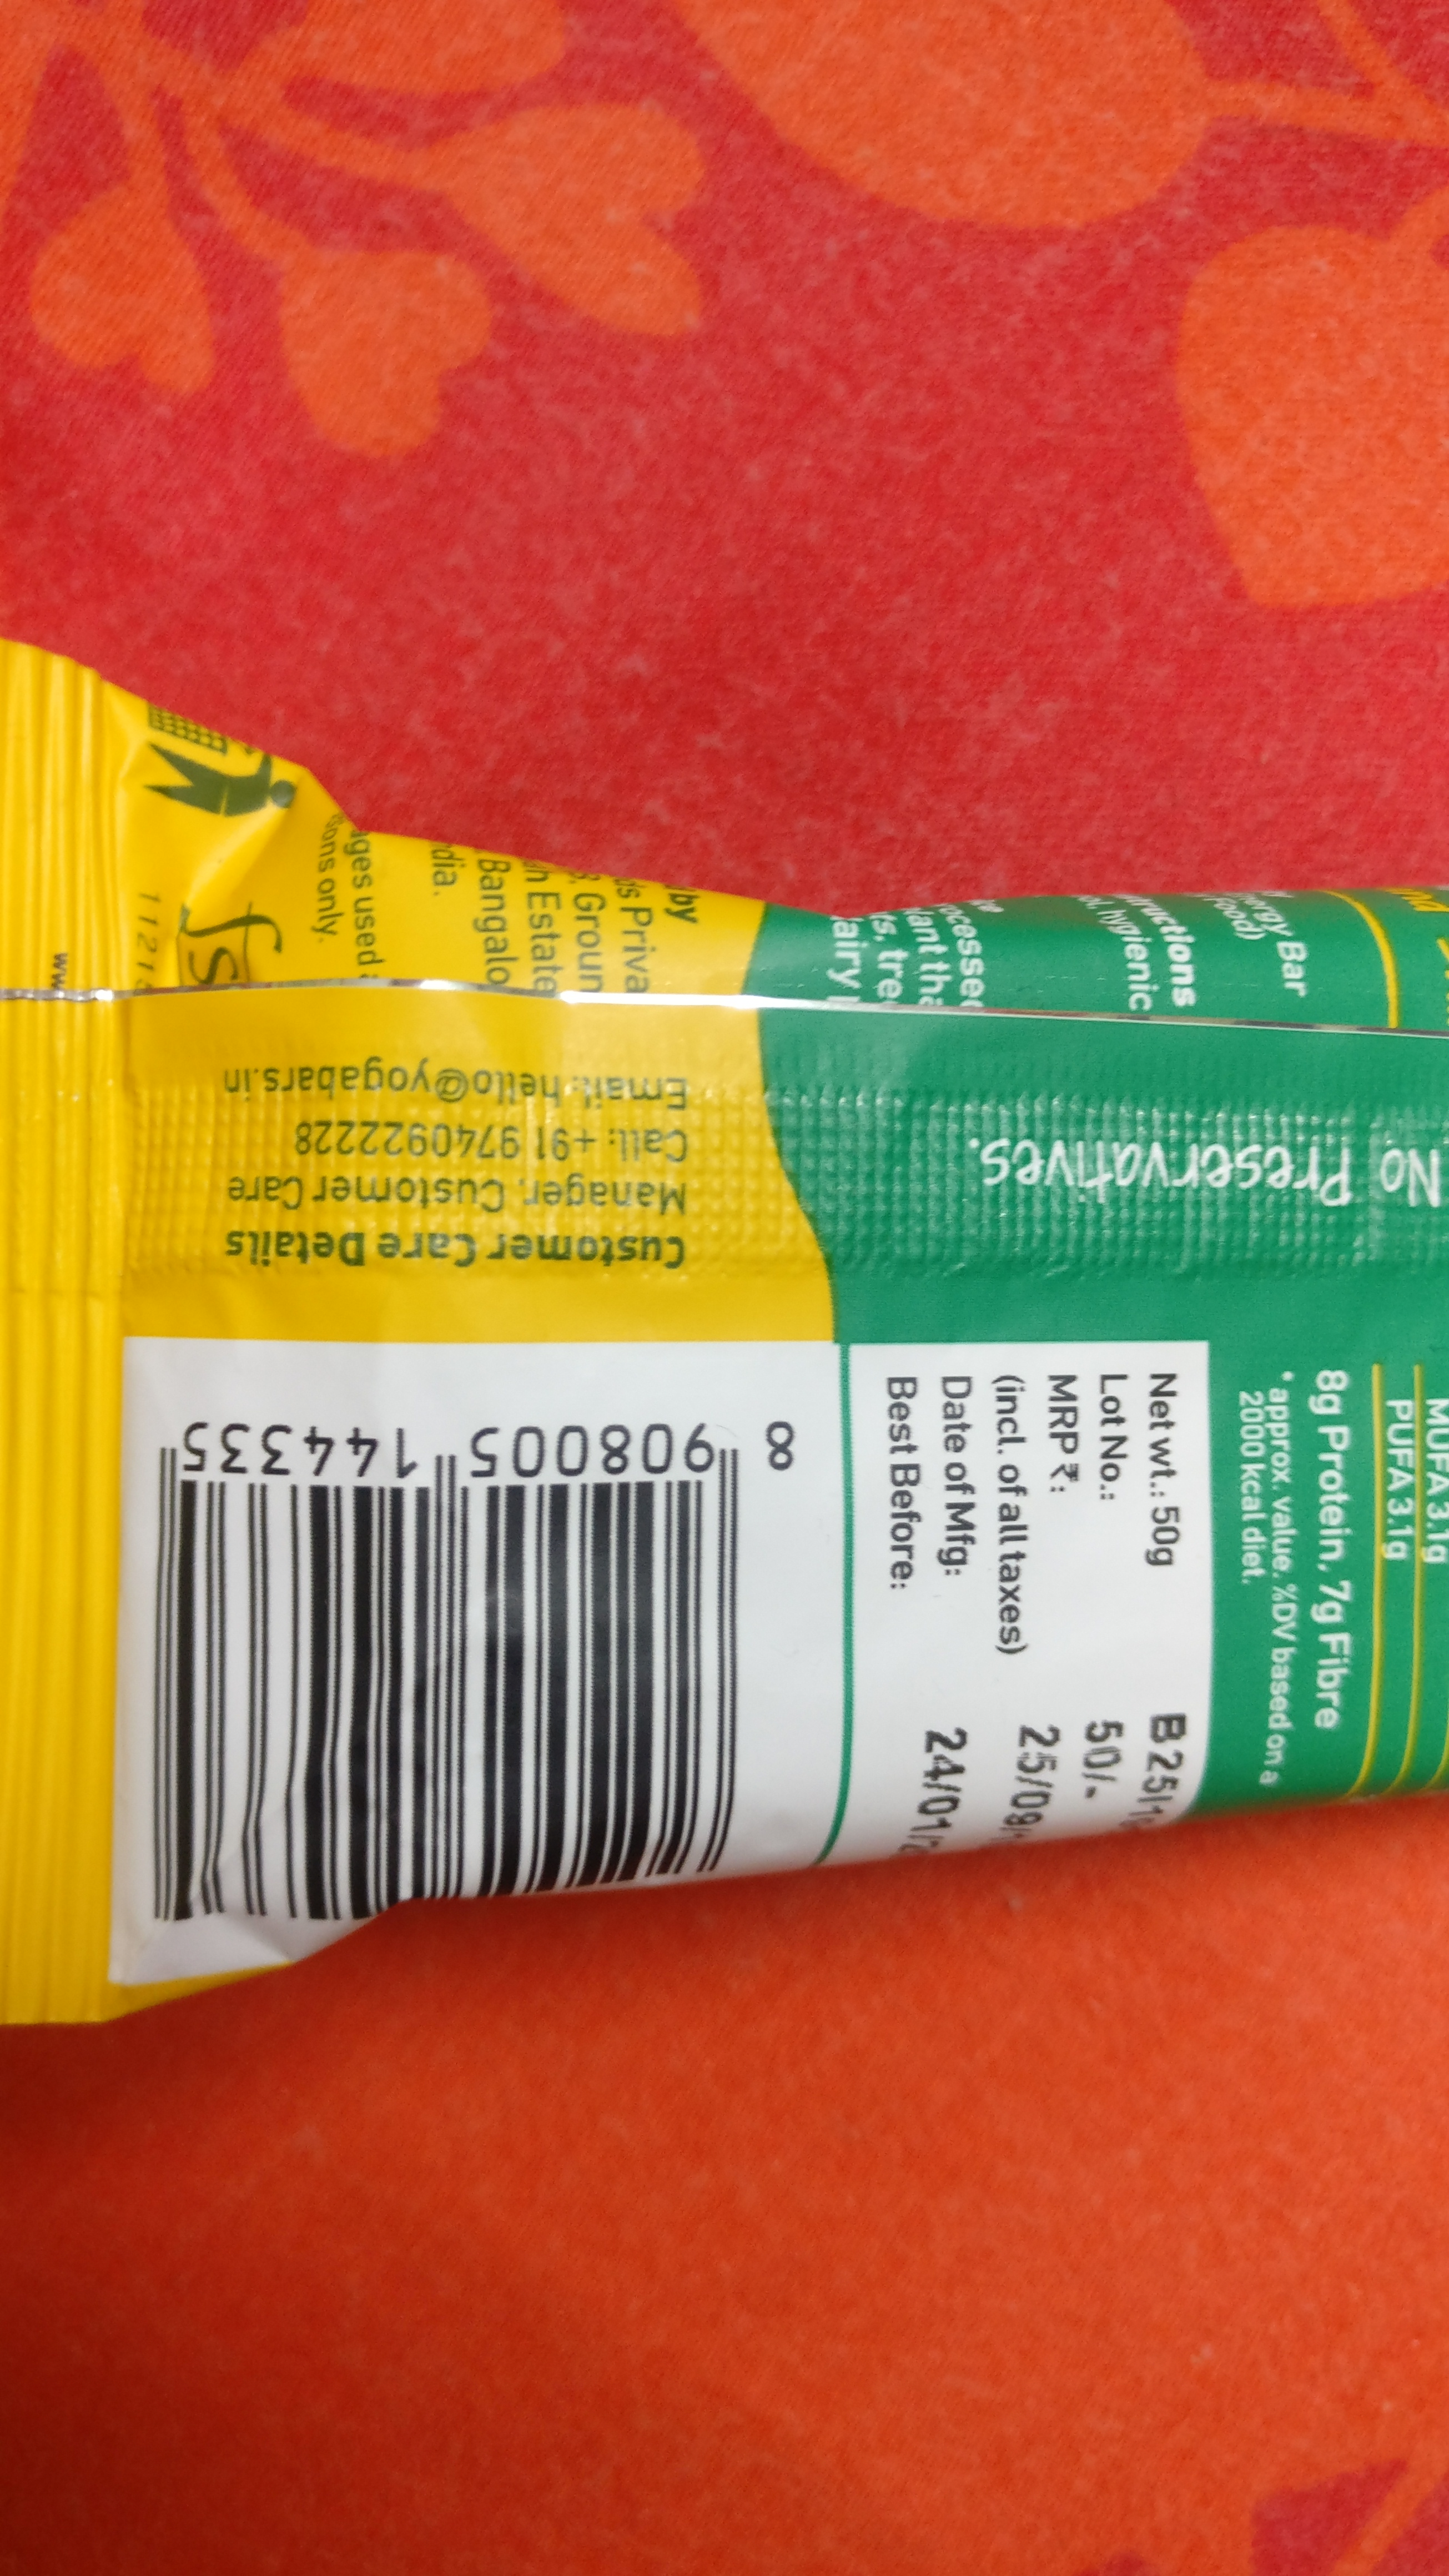barcode: (138, 1396, 803, 1928)
